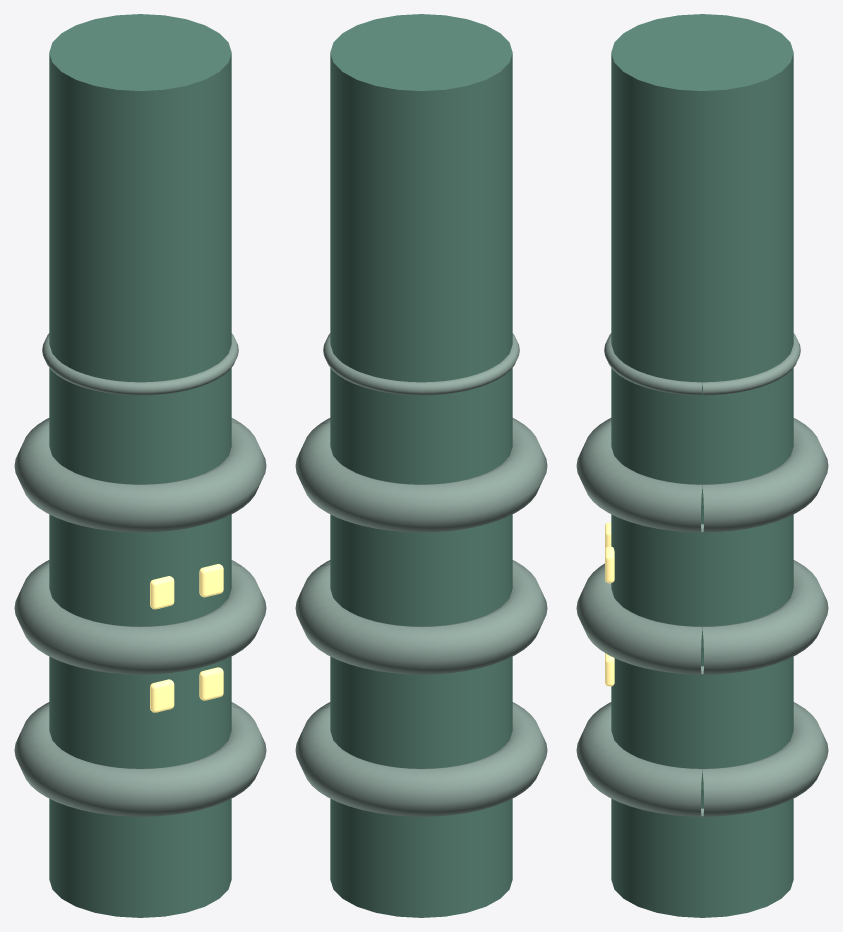
The picture shows the model from 3 angles, left to right: view 1: azimuth 30°, elevation 25°; view 2: azimuth 150°, elevation 25°; view 3: azimuth 270°, elevation 25°; orthographic projection.
Parts seen in each view (by area): view 1: Cylindrical tower, Tower intermediate ledge.001, Tower intermediate ledge.002, Tower intermediate ledge, Tower seam, Inset service window.001, Inset service window.005, Inset service window.004, Inset service window; view 2: Cylindrical tower, Tower intermediate ledge.001, Tower intermediate ledge.002, Tower intermediate ledge, Tower seam; view 3: Cylindrical tower, Tower intermediate ledge.002, Tower intermediate ledge, Tower intermediate ledge.001, Tower seam.
Boxes of the visible parts, x1,y1,x2,y2 form: Cylindrical tower: (49, 14, 231, 917); Tower intermediate ledge.001: (14, 560, 266, 674); Tower intermediate ledge.002: (14, 418, 266, 532); Tower intermediate ledge: (14, 702, 266, 816); Tower seam: (42, 333, 238, 395); Inset service window.001: (199, 667, 223, 700); Inset service window.005: (199, 564, 223, 597); Inset service window.004: (150, 576, 174, 609); Inset service window: (150, 679, 174, 712); Cylindrical tower: (330, 14, 512, 917); Tower intermediate ledge.001: (295, 560, 547, 674); Tower intermediate ledge.002: (295, 418, 547, 532); Tower intermediate ledge: (295, 702, 547, 816); Tower seam: (323, 333, 519, 395); Cylindrical tower: (611, 14, 793, 917); Tower intermediate ledge.002: (576, 418, 828, 532); Tower intermediate ledge: (576, 702, 828, 816); Tower intermediate ledge.001: (576, 560, 828, 674); Tower seam: (604, 333, 800, 395).
Size of the model in its own units: 0.8838 by 3.2 by 0.884.
